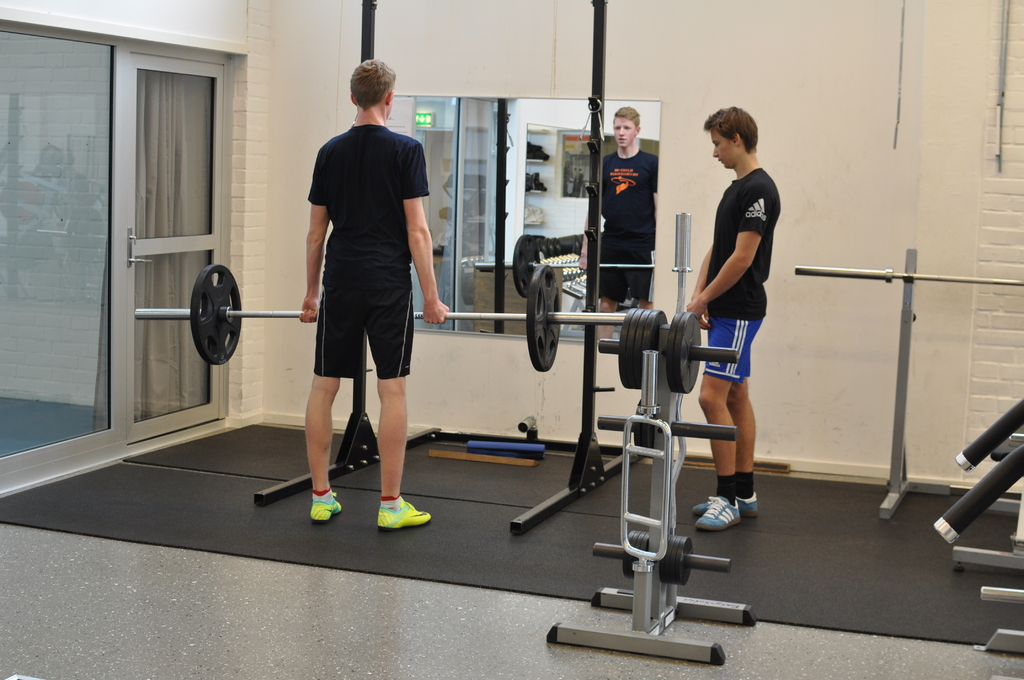Person: (299, 58, 449, 531), (686, 106, 781, 530), (579, 106, 659, 344)
